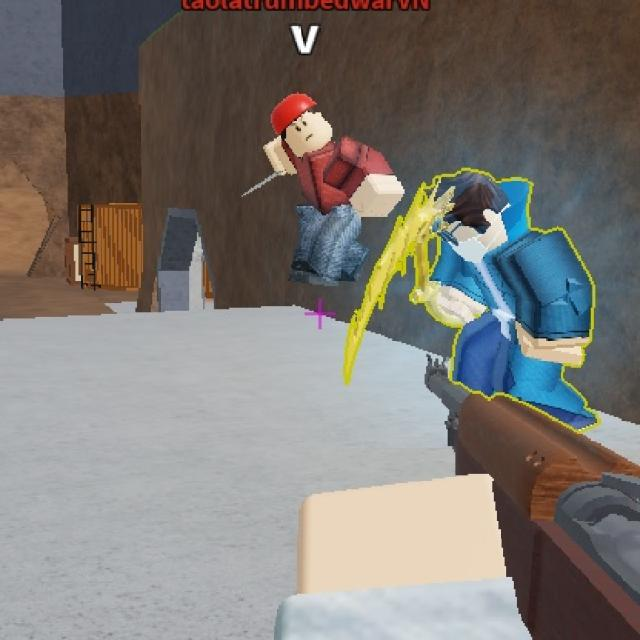player: (414, 154, 584, 361)
